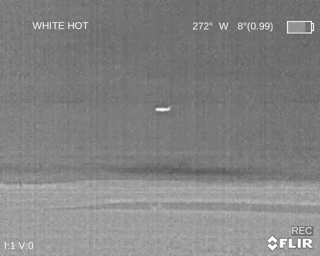AIRPLANE: (154, 104, 172, 113)
